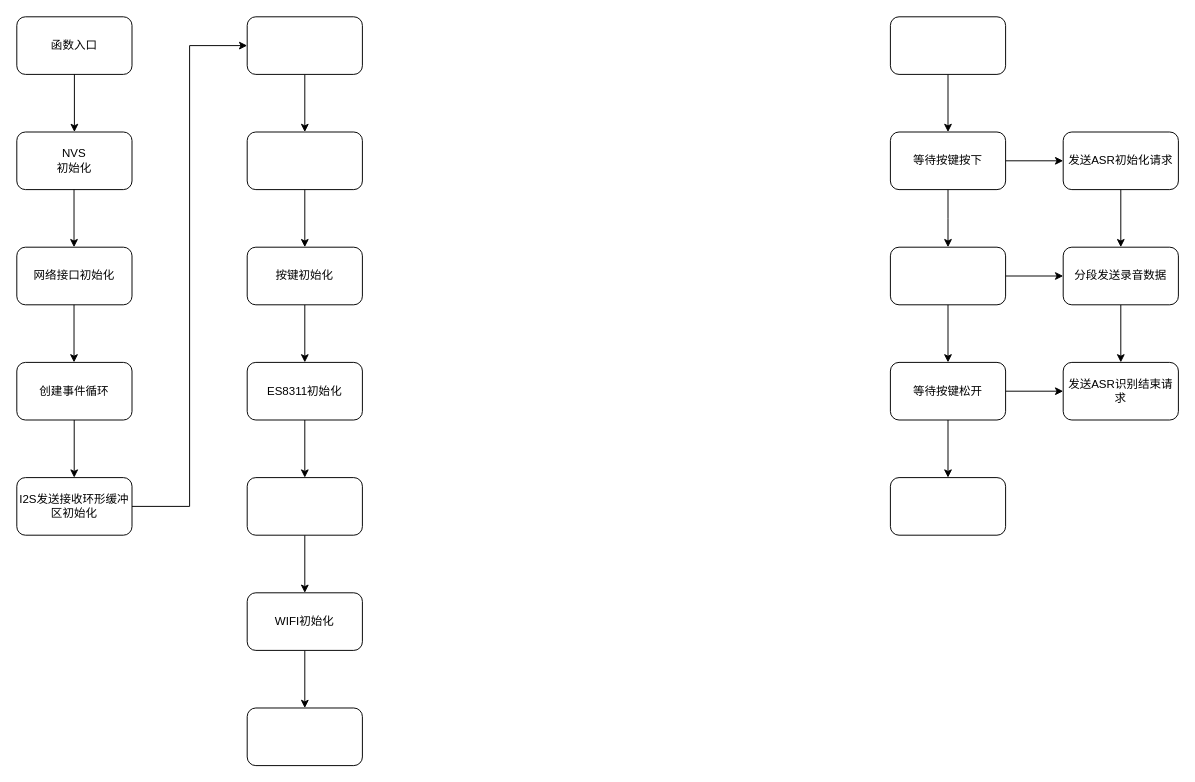
Some shapes in this 1195 by 782 pixel diagram are drawn without their labels. Here are the shapes that lost their labels. From the top down, the centre of each, then its label:
At [304,45]: "初始化函数".
At [947,45]: "音频采集任务".
At [304,160]: "读取NVS存放的WIFI信息".
At [947,275]: "记录录音数据".
At [304,506]: "I2S初始化".
At [947,506]: "单次音频采集数据结束".
At [304,736]: "创建音频采集任务".
